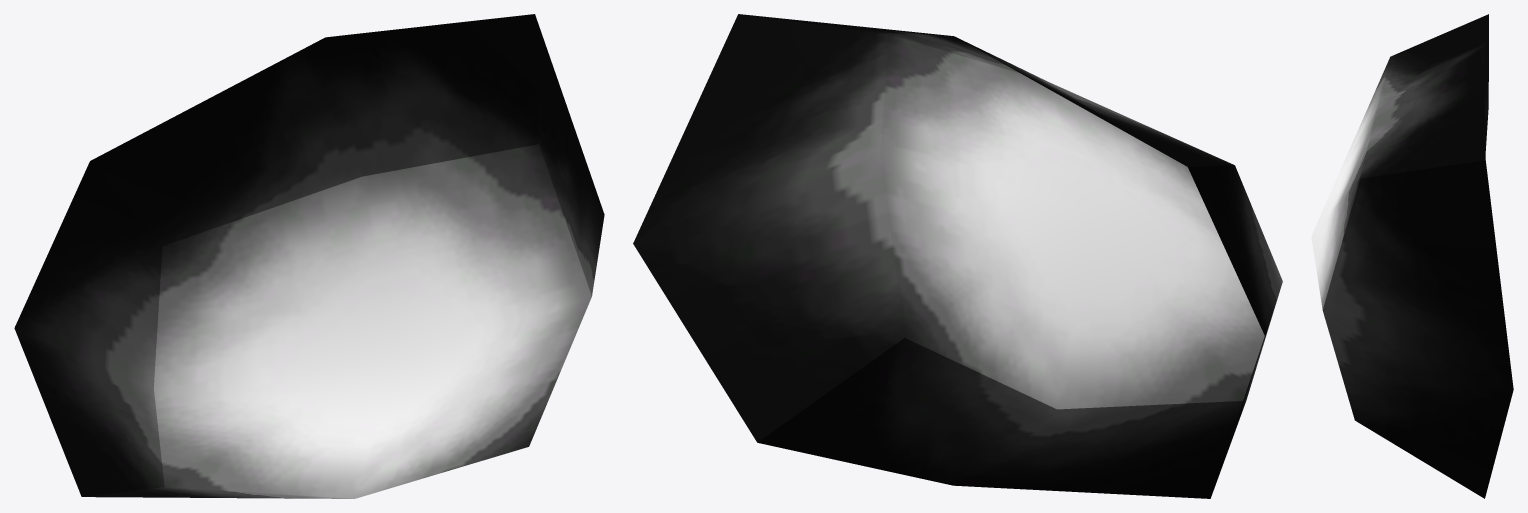
Rendered from fistglow.glb.
The picture shows the model from 3 angles, left to right: view 1: azimuth 30°, elevation 25°; view 2: azimuth 150°, elevation 25°; view 3: azimuth 270°, elevation 25°; orthographic projection. The views are drawn at different scales.
Visible parts, largest first — view 1: common/fistglow_0; view 2: common/fistglow_0; view 3: common/fistglow_0.
Part boxes in pixels (bbox=[...]): common/fistglow_0: bbox=[14, 14, 604, 498]; common/fistglow_0: bbox=[633, 14, 1282, 498]; common/fistglow_0: bbox=[1311, 14, 1513, 498].
Bounding box in the file's own units: 2 × 1.41 × 0.6966.
Materials: 1 (1 with a texture image).
